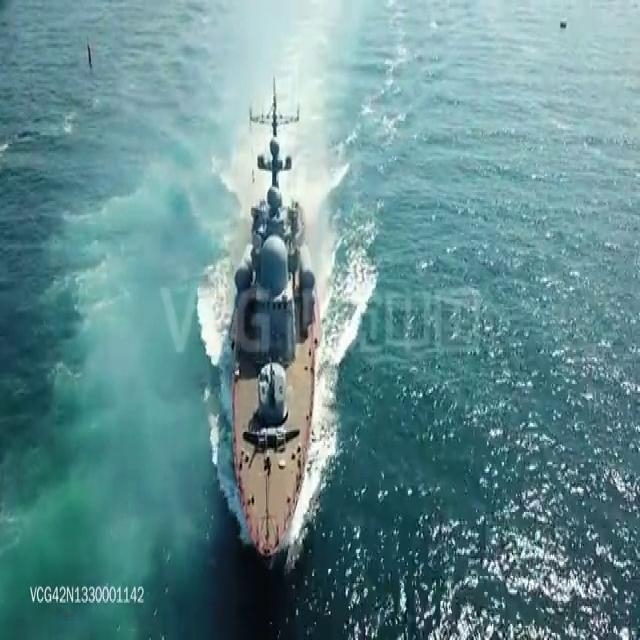navalvessels: (221, 79, 324, 562)
